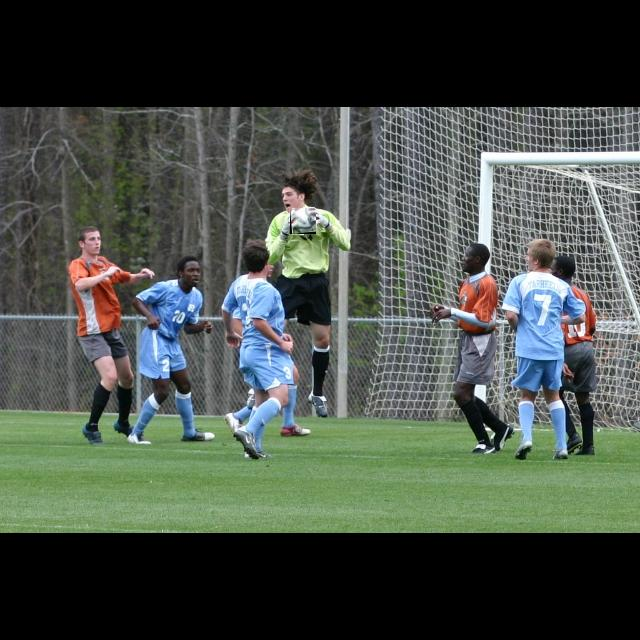Football: (290, 208, 316, 234)
